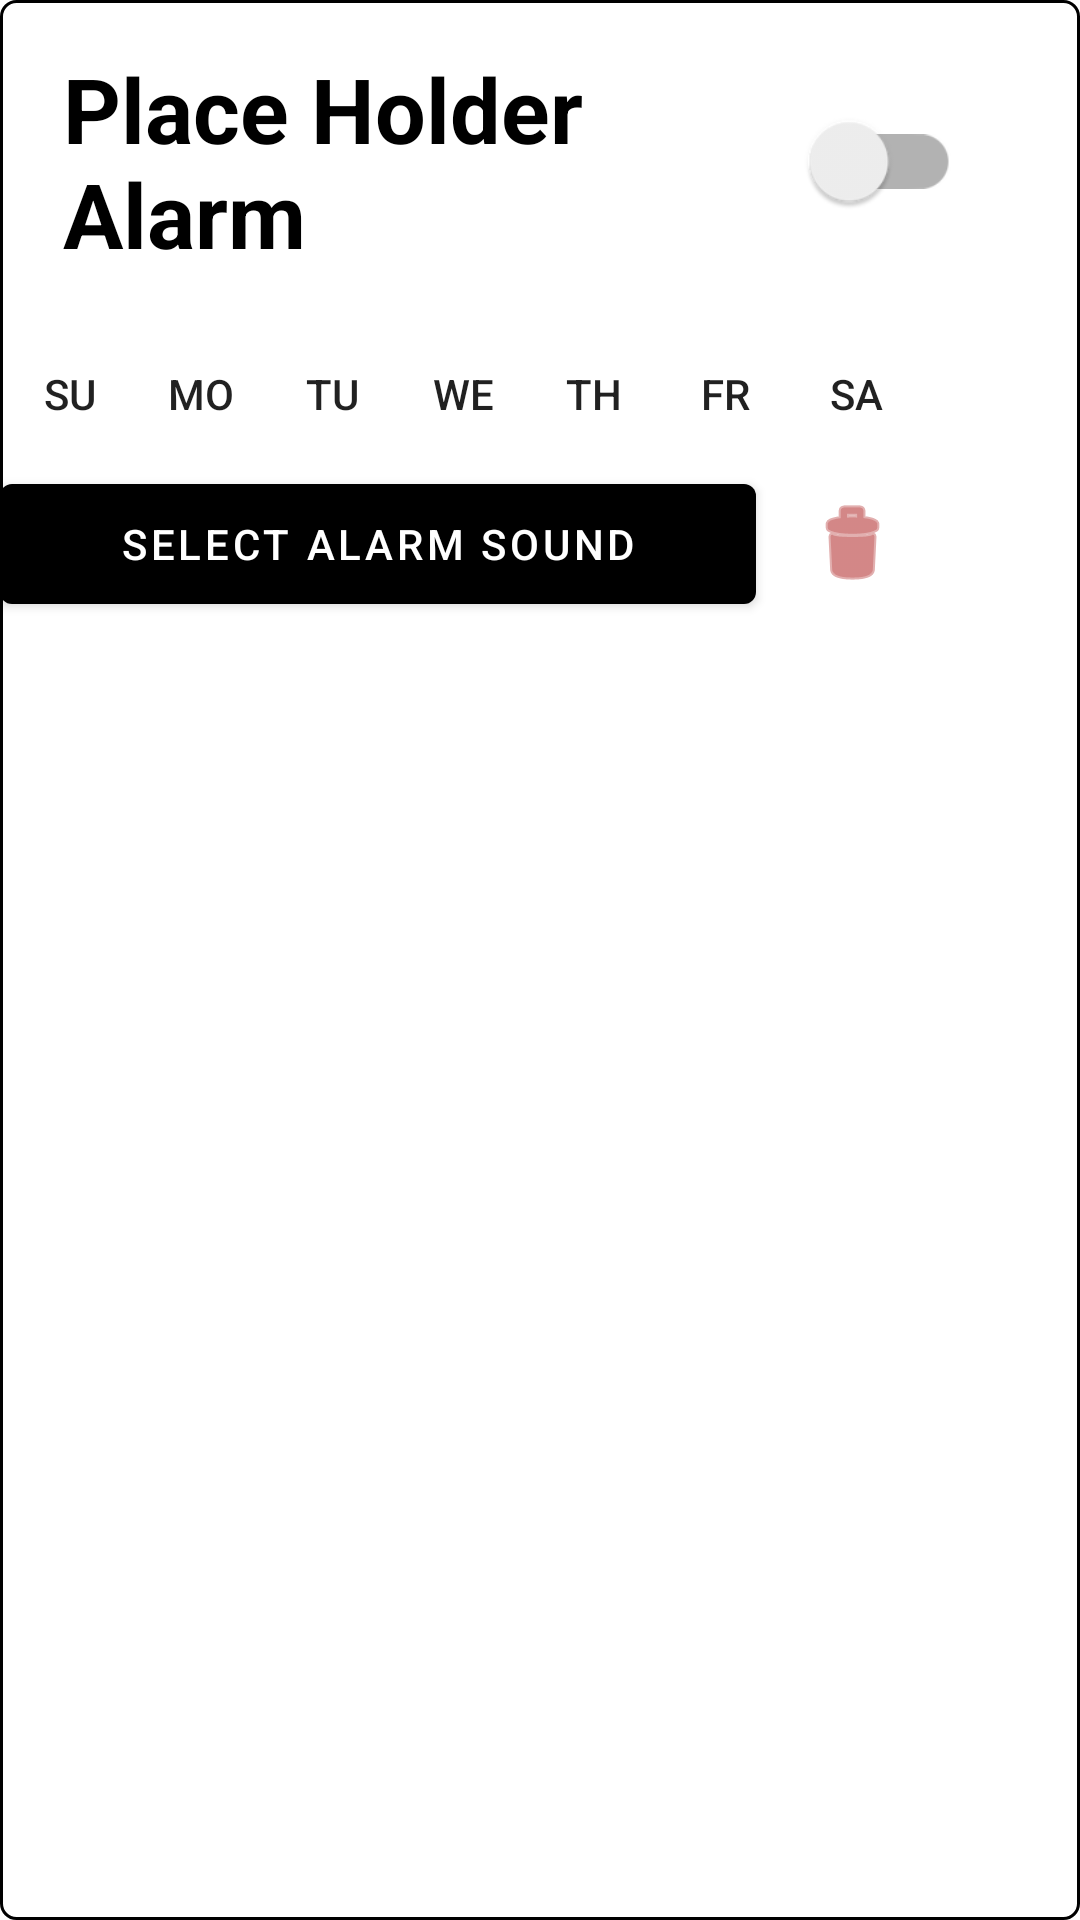

Screen size 1080x1920. Icon name, then its box in pixels as (x1, y1, x2, y2):
delete: (825, 505, 880, 580)
